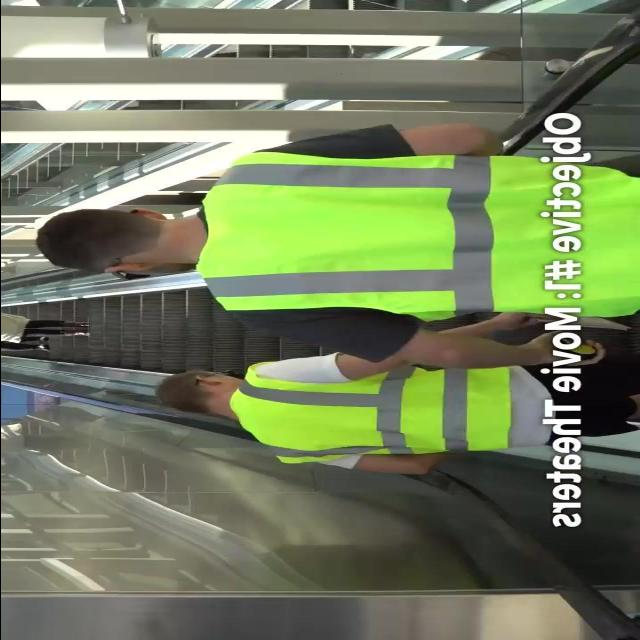jacket: (192, 132, 640, 320), (232, 358, 518, 468)
